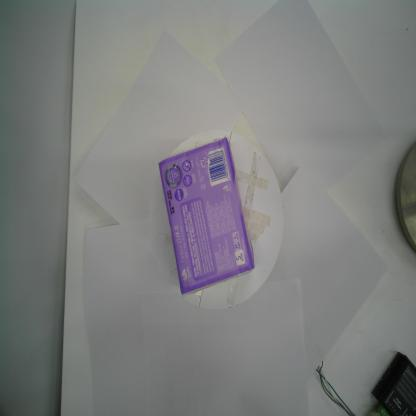Tissue: (158, 134, 256, 298)
